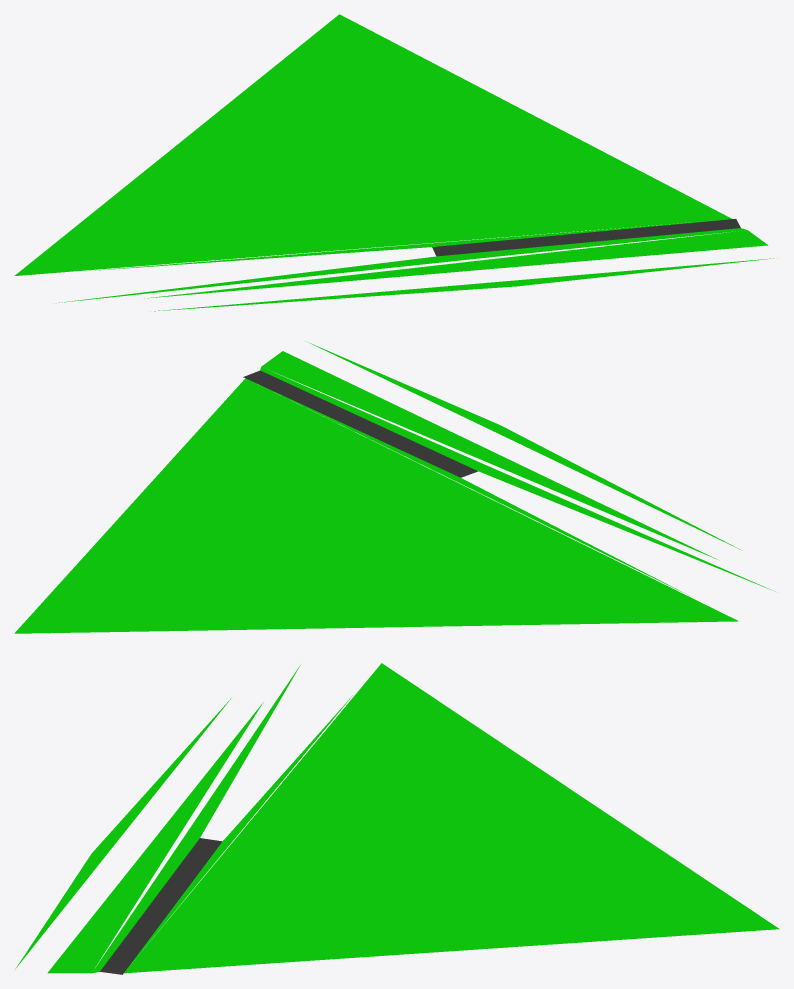
3 renders of one model, top to bottom at view 1: azimuth 30°, elevation 25°; view 2: azimuth 150°, elevation 25°; view 3: azimuth 270°, elevation 25°, orthographic. The views are drawn at different scales.
Bounding box in the file's own units: 78.26 × 0 × 80.99.
